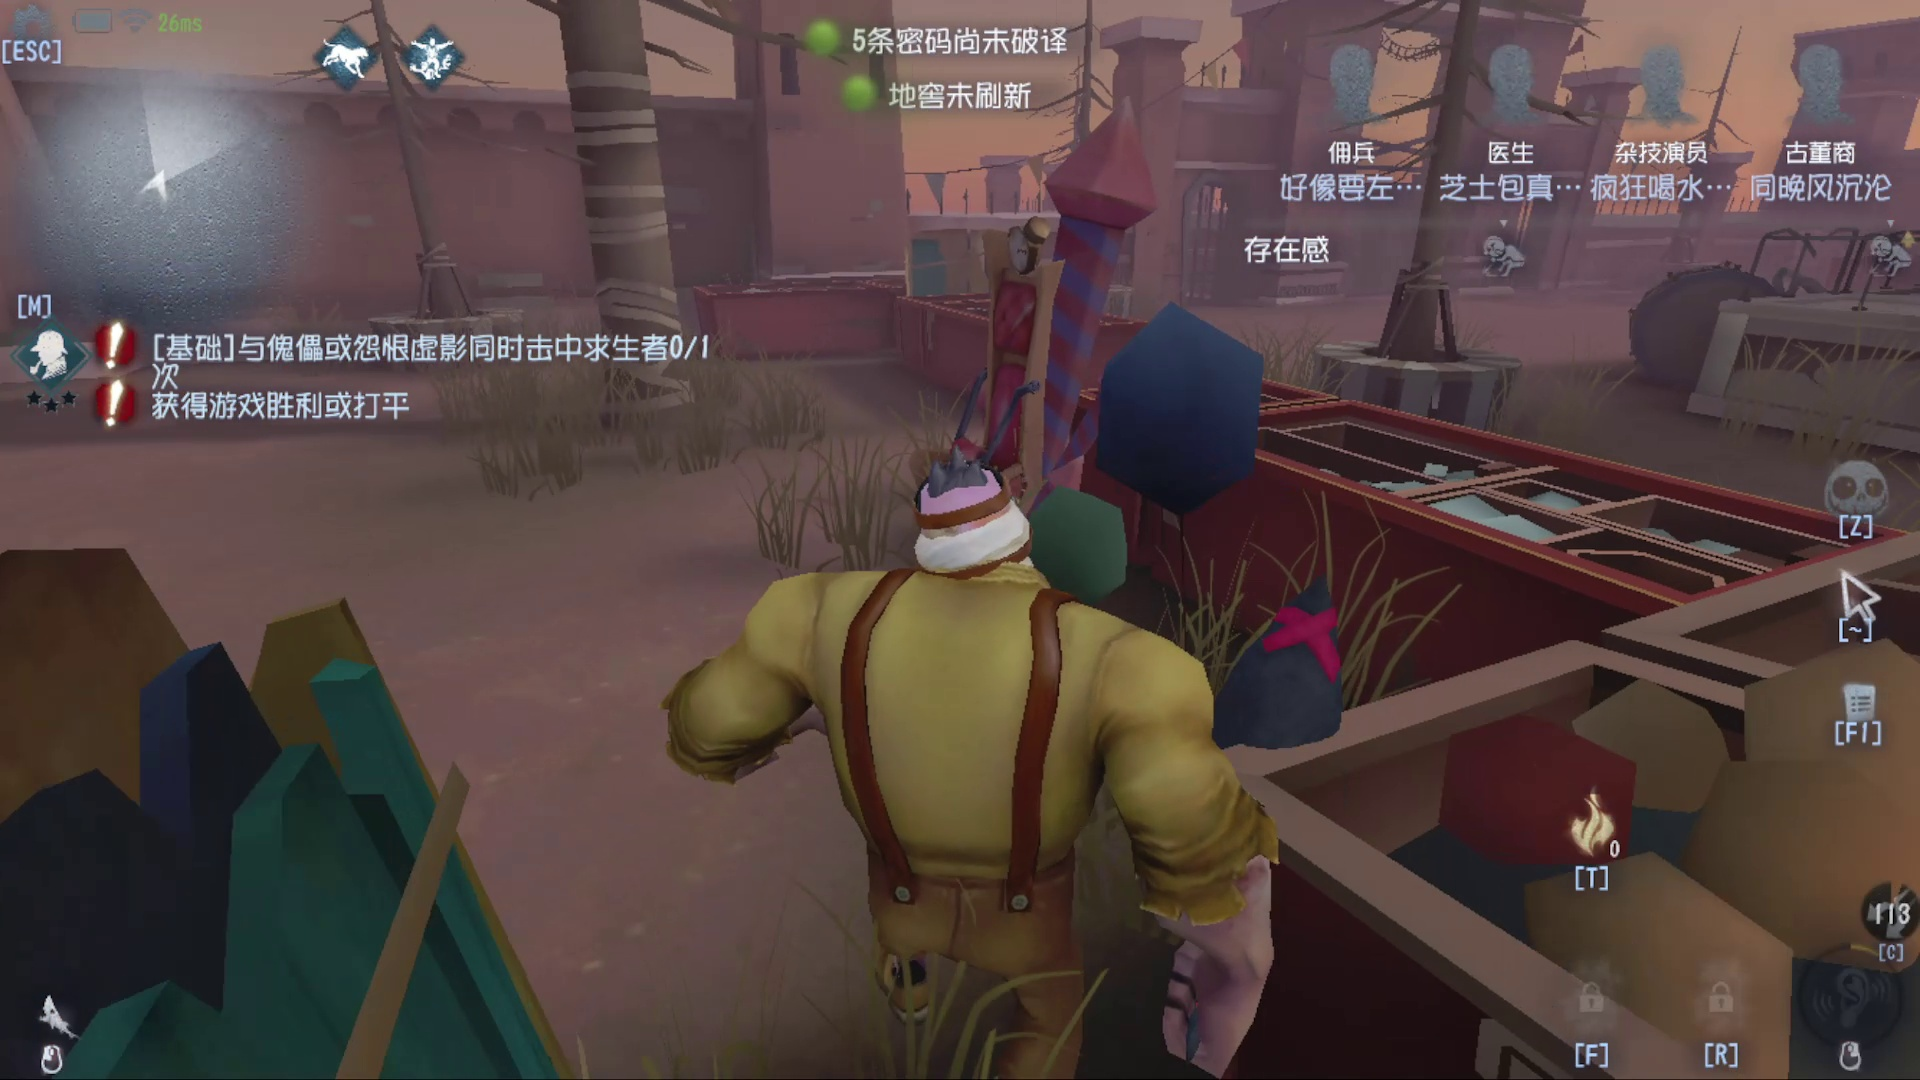狂欢之椅: (920, 138, 1127, 607)
